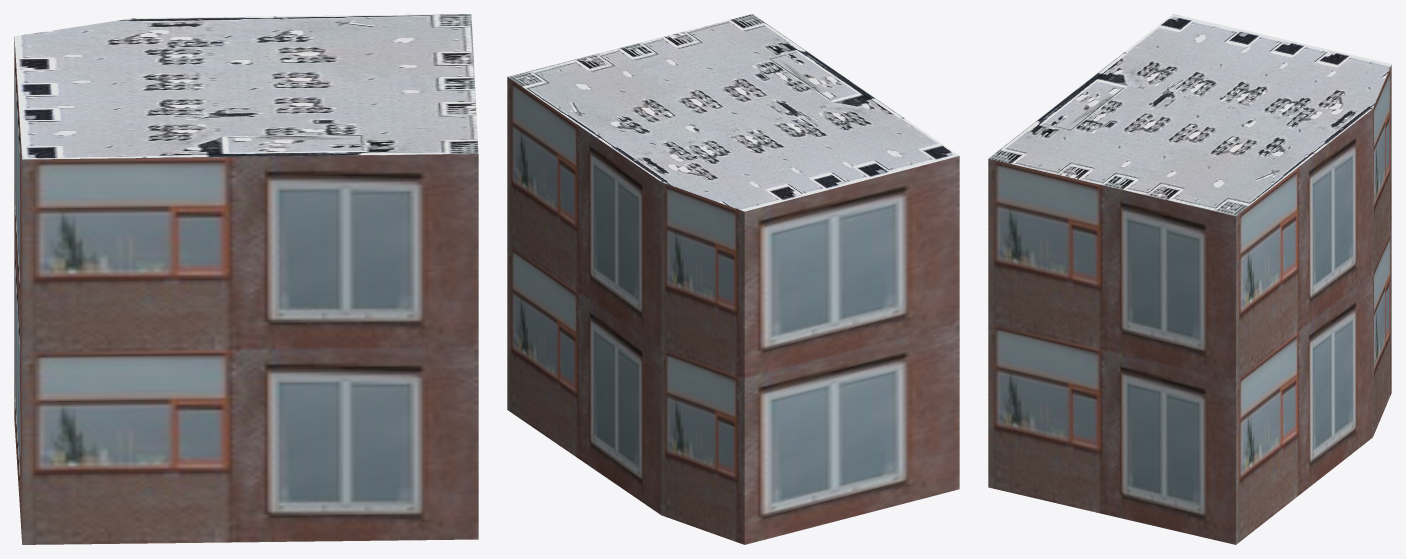
Rendered from ResTex__1223.fbx.
3 views of the same model, side by side, from view 1: azimuth 30°, elevation 25°; view 2: azimuth 150°, elevation 25°; view 3: azimuth 270°, elevation 25° (orthographic). The views are drawn at different scales.
Visible parts, largest first — view 1: CityEngineMaterial_19_m, CityEngineMaterial_15_m; view 2: CityEngineMaterial_19_m, CityEngineMaterial_15_m; view 3: CityEngineMaterial_19_m, CityEngineMaterial_15_m.
Boxes of the visible parts, x1,y1,x2,y2 form: CityEngineMaterial_19_m: (14, 37, 478, 544); CityEngineMaterial_15_m: (14, 14, 478, 159); CityEngineMaterial_19_m: (507, 77, 959, 544); CityEngineMaterial_15_m: (508, 14, 958, 211); CityEngineMaterial_19_m: (988, 65, 1391, 544); CityEngineMaterial_15_m: (988, 14, 1391, 216).
Bounding box in the file's own units: 7.92 × 6 × 6.68.
Materials: 2 (2 with a texture image).
